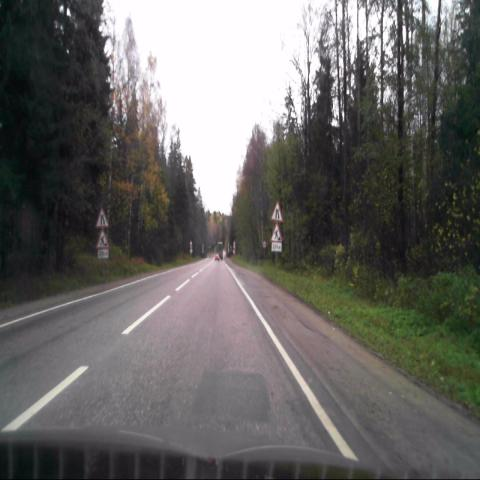1_20_2: (270, 200, 283, 222)
